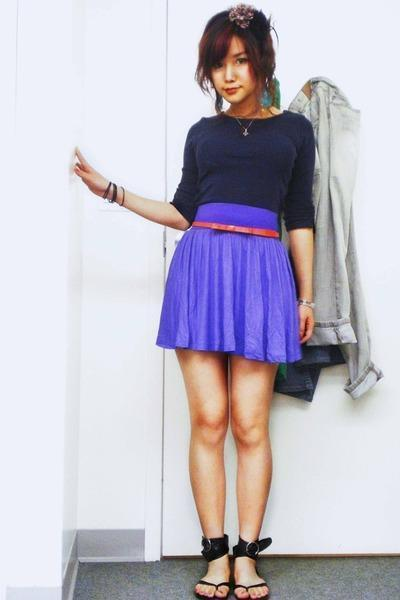shirt: (170, 108, 317, 227)
shoe: (196, 534, 268, 599)
skirt: (156, 203, 306, 363)
